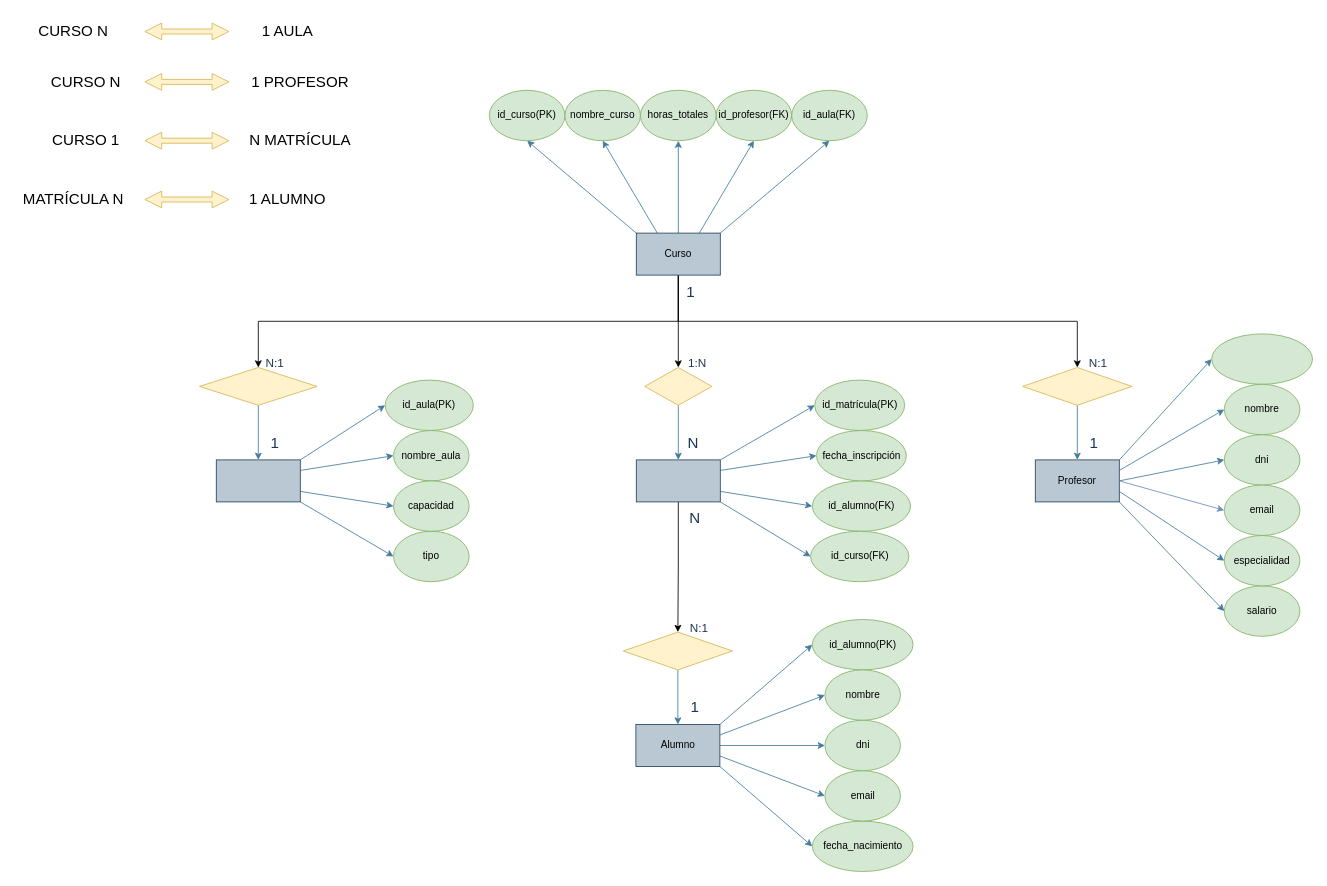
The diagram is 1327 pixels wide and 886 high, and some of its shapes have lost their labels. The shapes that lost their labels are listed below. From the top down, each one's box as (x1, y1, x2, y2) in pixels, then its label:
(1211, 333, 1312, 384): id_profesor(PK)
(199, 367, 317, 405): Se imparte en
(644, 367, 712, 405): Tiene
(1022, 367, 1132, 405): Impartido por
(215, 459, 300, 502): Aula
(635, 459, 720, 502): Matrícula
(622, 631, 732, 670): Realizada por
